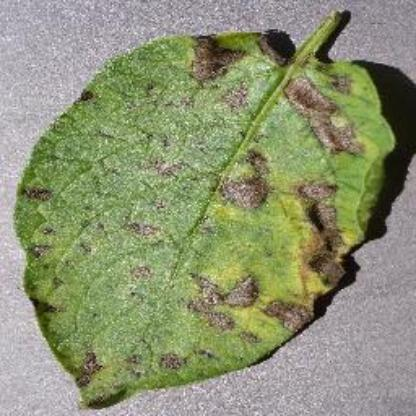Early-Blight: (13, 6, 401, 408)
